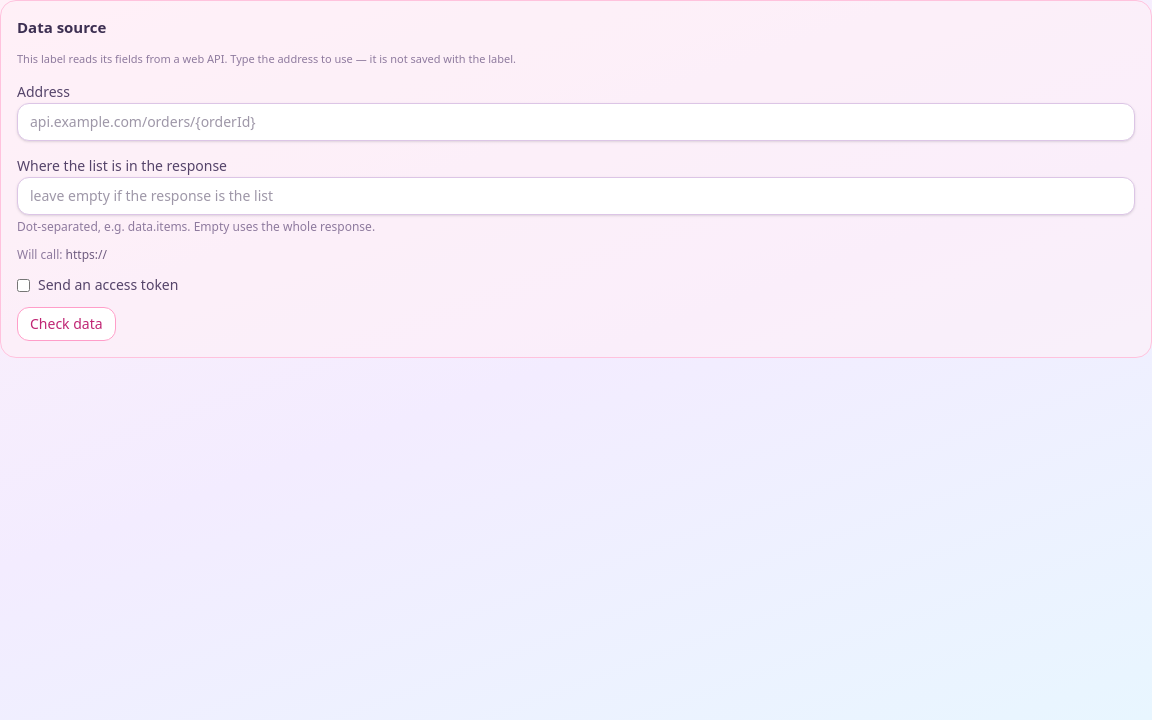
Test: the data source card › has no token input until the person asks to send one
Click the checkbox labelled "Send an access token": click(24, 285) [17,279,30,292]
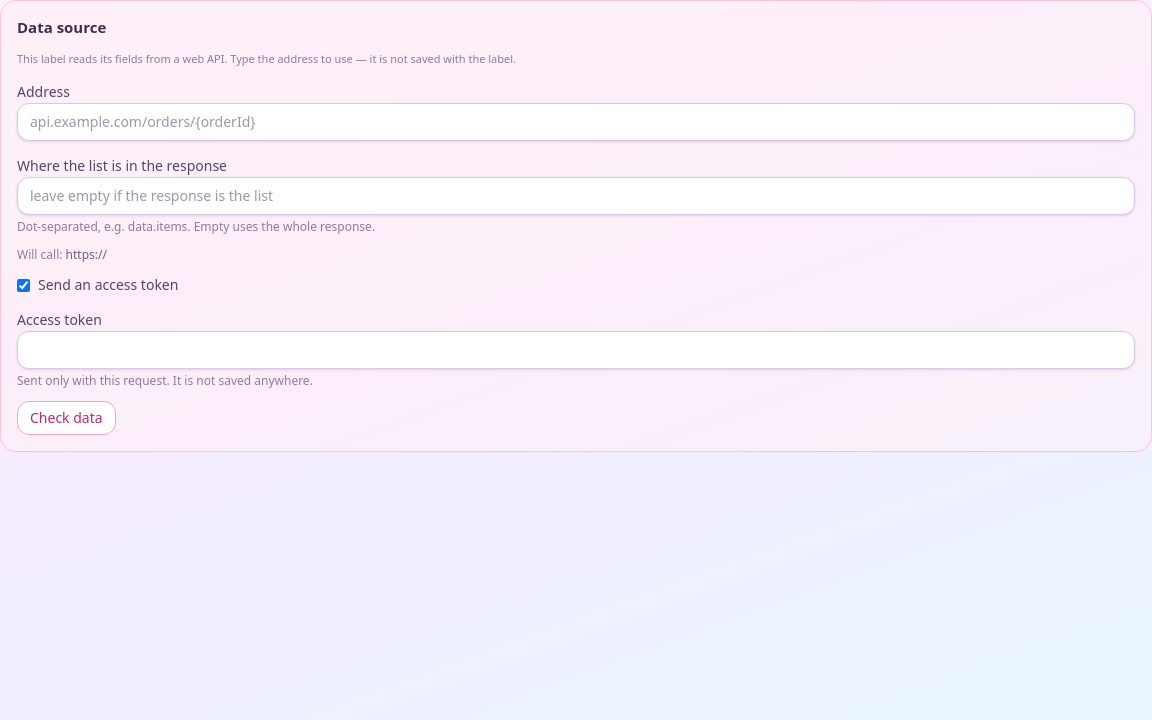
Expected: the password field labelled "Access token" is shown, [17,331,1135,369]
